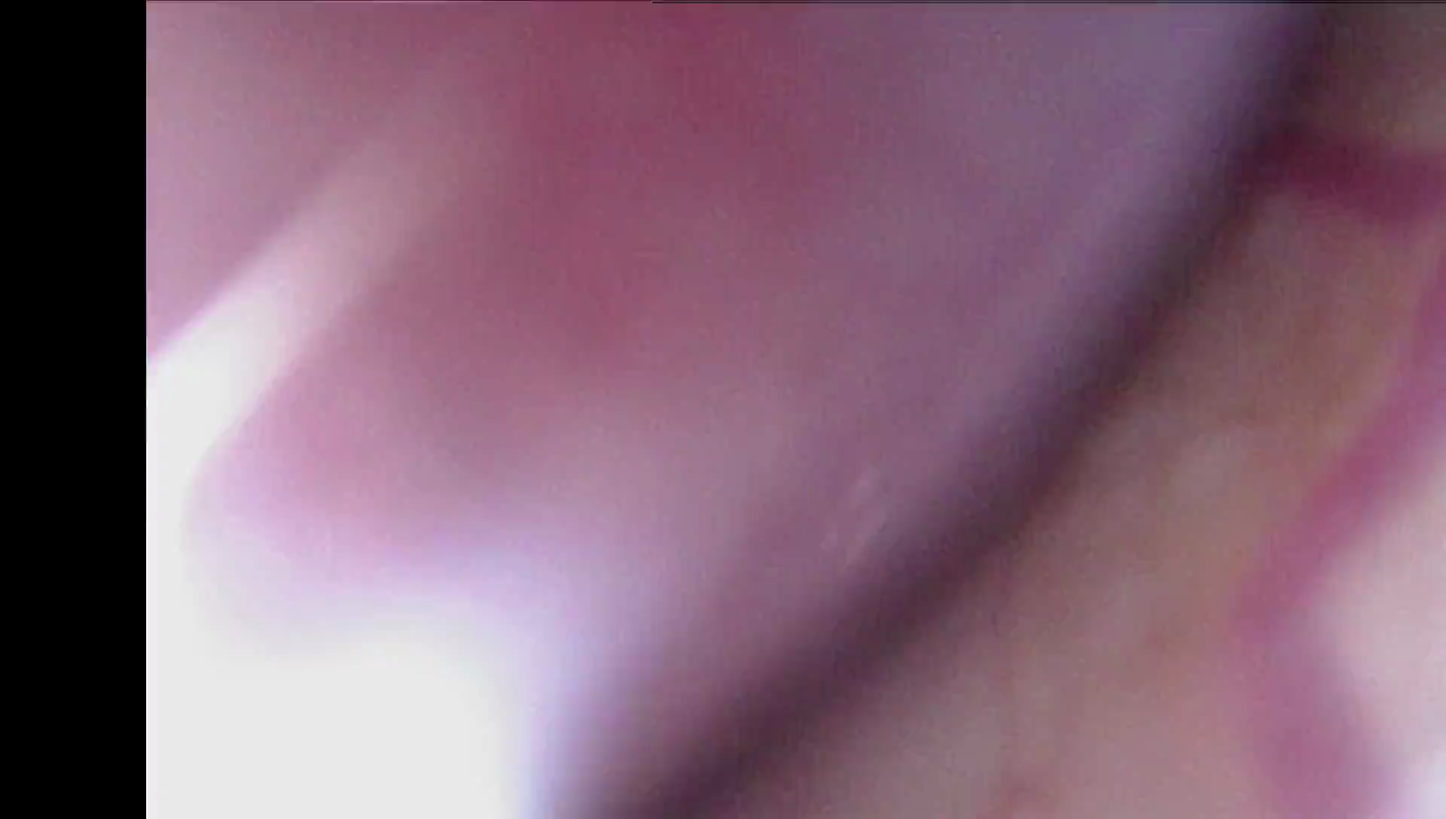close_wall: (148, 242, 649, 819), (1135, 465, 1446, 819)
